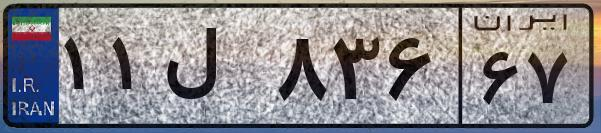1: (57, 26, 110, 100), (110, 28, 158, 98)
3: (330, 28, 385, 110)
6: (385, 28, 445, 110), (475, 38, 525, 113)
7: (525, 38, 570, 115)
8: (270, 28, 330, 110)
ل: (158, 20, 270, 120)
